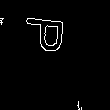P_E: (27, 19, 76, 62)
